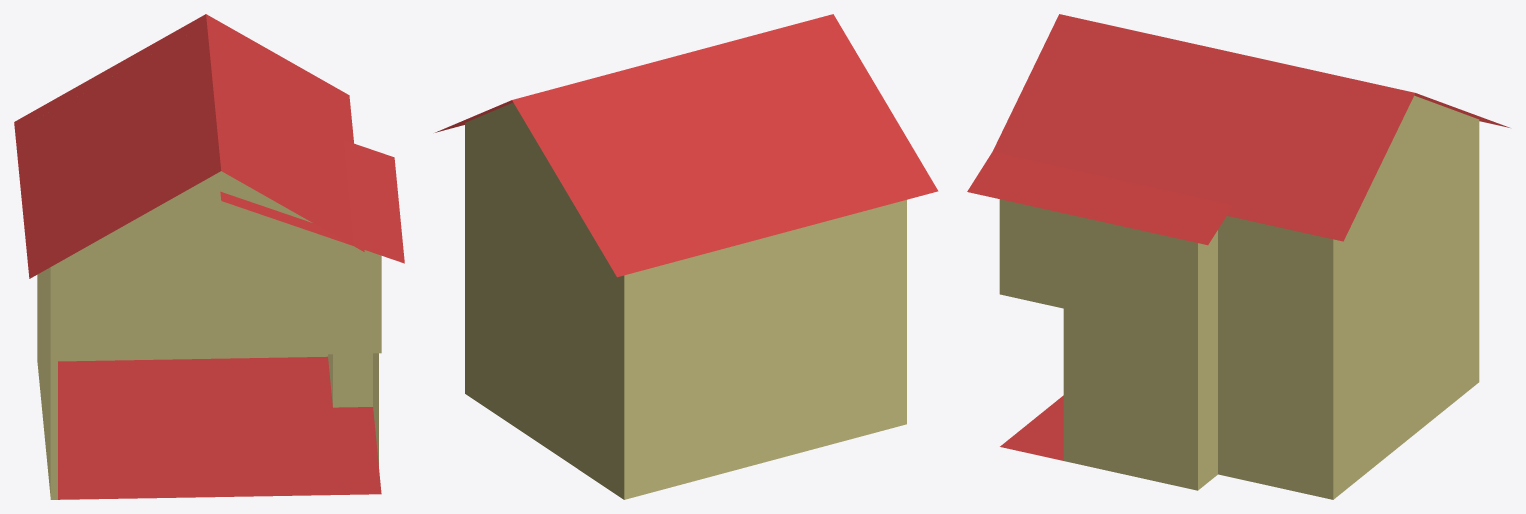
The picture shows the model from 3 angles, left to right: view 1: azimuth 30°, elevation 25°; view 2: azimuth 150°, elevation 25°; view 3: azimuth 270°, elevation 25°; orthographic projection. The views are drawn at different scales.
Bounding box in the file's own units: 15.74 × 16.88 × 12.4.
